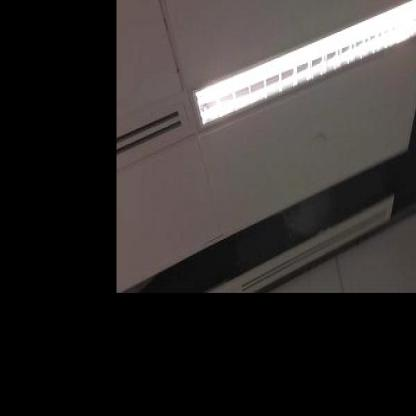light_on: (193, 0, 415, 133)
